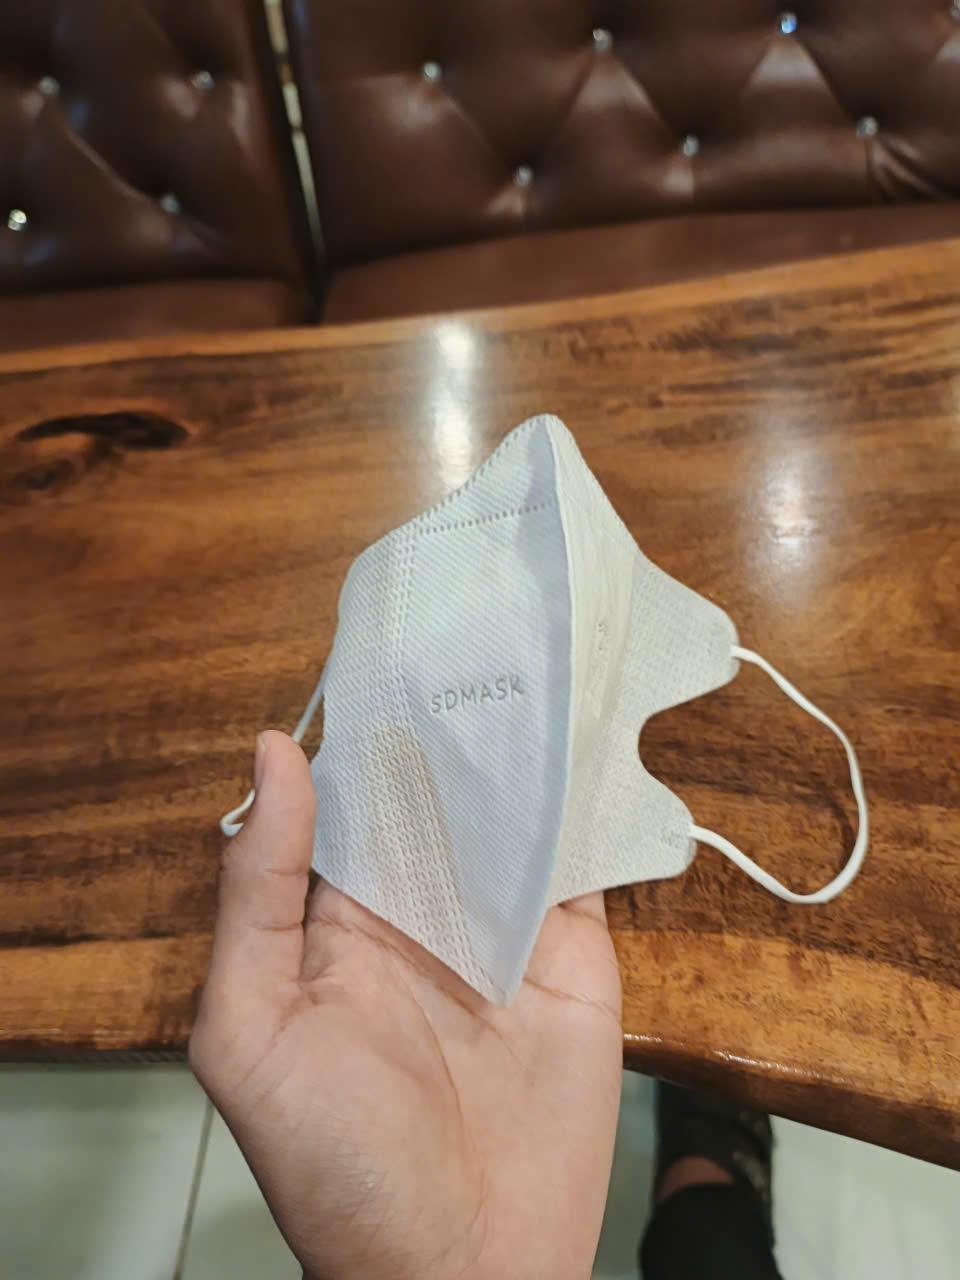Con lai: (230, 415, 870, 1017)
